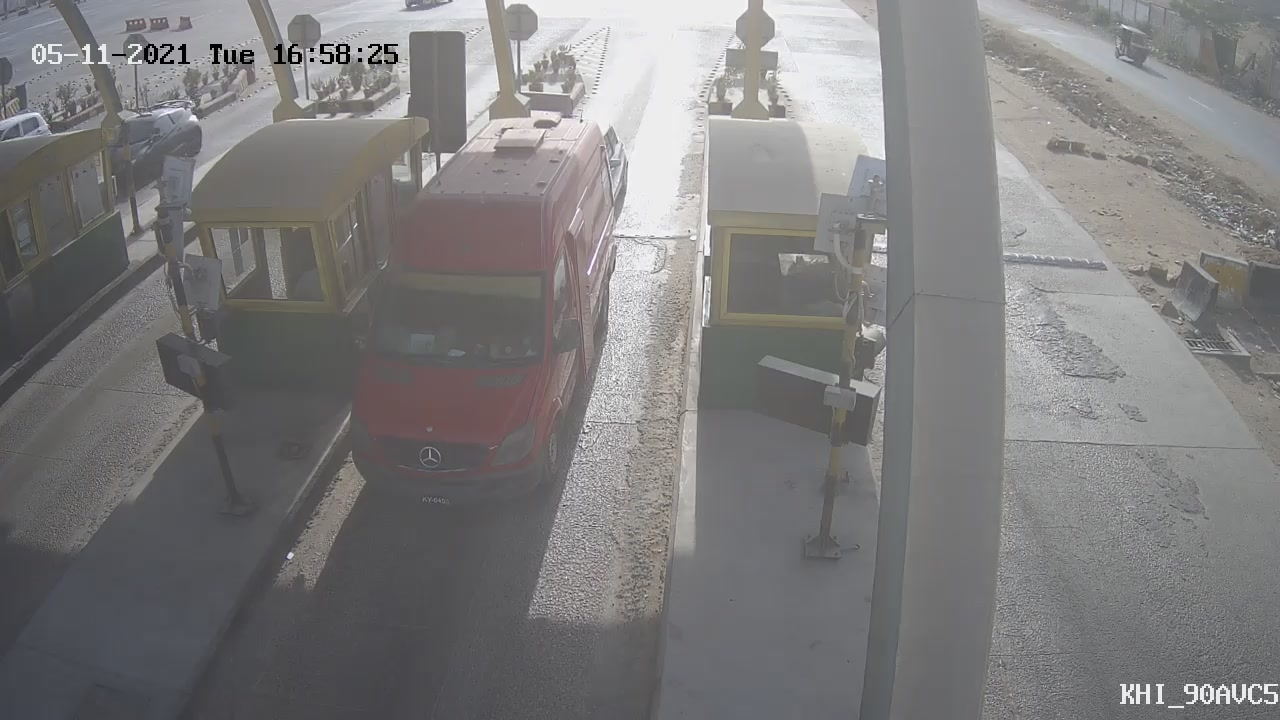F2: (314, 91, 639, 544)
